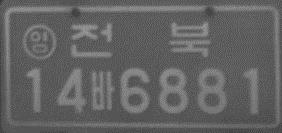1: (19, 67, 52, 114), (237, 67, 266, 116)
4: (56, 68, 86, 113)
6: (119, 67, 150, 115)
8: (158, 67, 189, 114), (196, 68, 227, 115)
바: (90, 69, 114, 112)
영: (21, 24, 57, 62)
전북_D: (68, 20, 211, 59)
